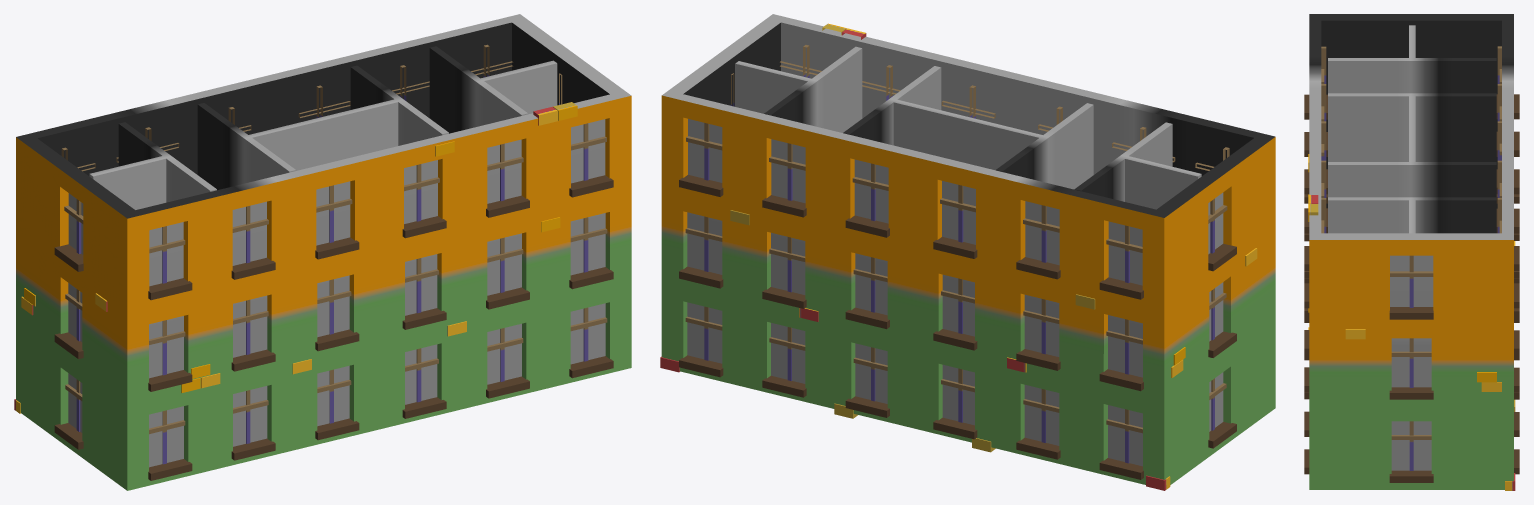
The model's file is House_1_mid.fbx.
3 views of the same model, side by side, from view 1: azimuth 30°, elevation 25°; view 2: azimuth 150°, elevation 25°; view 3: azimuth 270°, elevation 25° (orthographic). The views are drawn at different scales.
Parts seen in each view (by area): view 1: polySurface285, polySurface288; view 2: polySurface285, polySurface288; view 3: polySurface285, polySurface288, polySurface137, polySurface75, polySurface78, polySurface139.
Part boxes in pixels (x1,y1,x2,y2): polySurface285: [16, 14, 631, 490]; polySurface288: [89, 46, 557, 209]; polySurface285: [661, 14, 1275, 484]; polySurface288: [735, 46, 1201, 209]; polySurface285: [1309, 14, 1513, 489]; polySurface288: [1328, 25, 1496, 233]; polySurface137: [1389, 307, 1433, 319]; polySurface75: [1389, 387, 1433, 399]; polySurface78: [1389, 470, 1433, 482]; polySurface139: [1390, 271, 1433, 276].
Size of the model in its own units: 2796 by 1456 by 1105.
